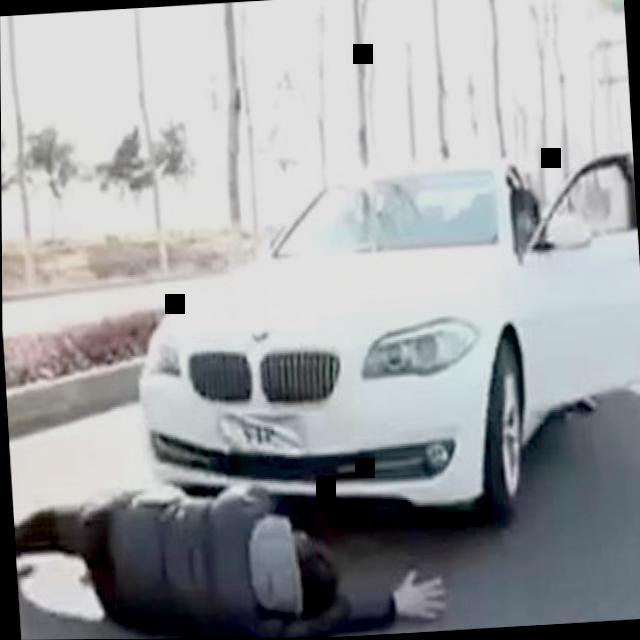Fall-Detected: (10, 436, 450, 640)
